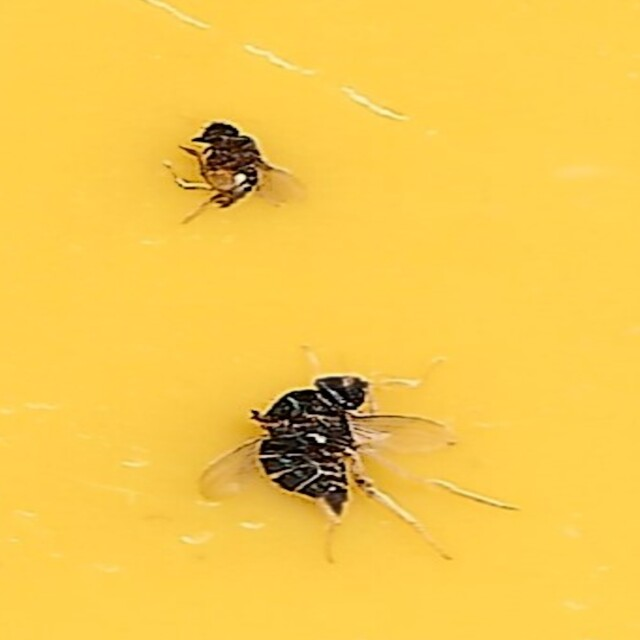Brachycera: (208, 367, 452, 521), (188, 119, 293, 217)
